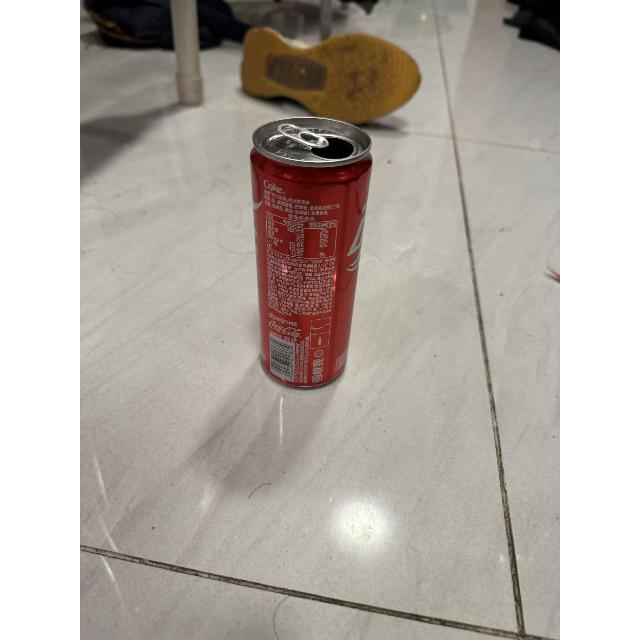coca-cola: (244, 112, 378, 396)
